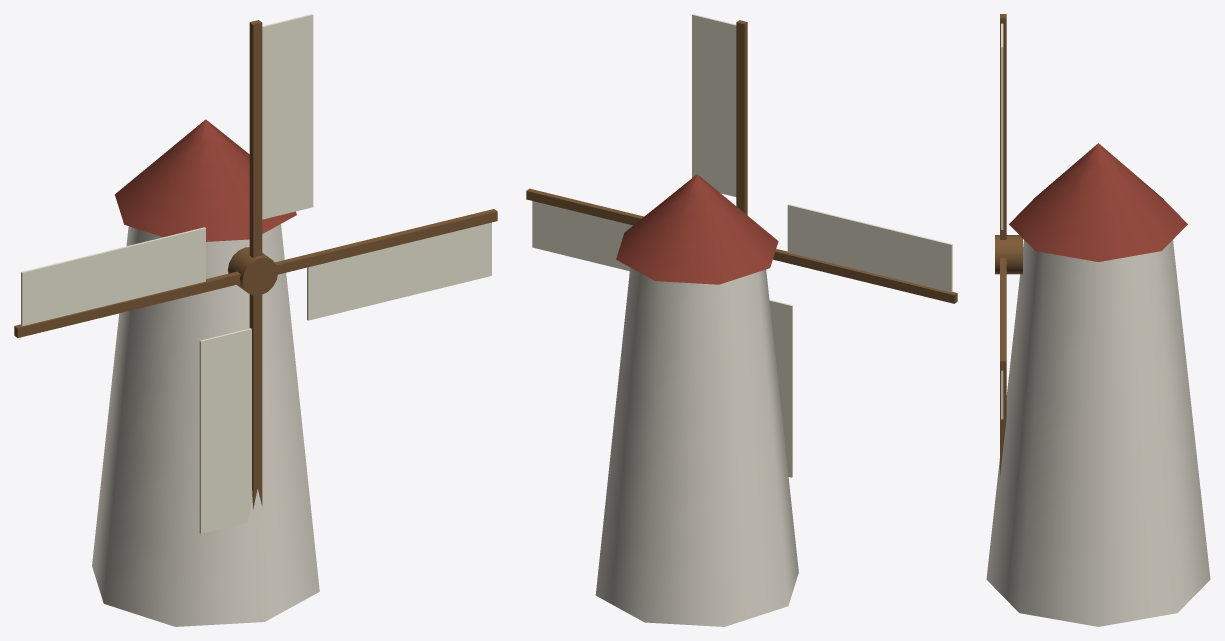
File: windmill.glb
3 views of the same model, side by side, from view 1: azimuth 30°, elevation 25°; view 2: azimuth 150°, elevation 25°; view 3: azimuth 270°, elevation 25° (orthographic). The views are drawn at different scales.
Parts seen in each view (by area): view 1: Tower, Roof, Cloth2, Cloth1, Cloth0, Cloth3, Spar0, Spar3, Spar1, Spar2, Hub; view 2: Tower, Roof, Cloth1, Cloth0, Cloth3, Cloth2, Spar0, Spar1, Spar3; view 3: Tower, Roof, Spar0, Hub, Spar3, Cloth0, Spar2.
Part boxes in pixels (box(x1,y1,x2,y2)): Tower: box(92, 224, 319, 626); Roof: box(115, 119, 296, 241); Cloth2: box(199, 328, 251, 533); Cloth1: box(21, 227, 205, 326); Cloth0: box(262, 14, 313, 219); Cloth3: box(307, 222, 491, 320); Spar0: box(249, 20, 262, 257); Spar3: box(275, 209, 497, 274); Spar1: box(14, 271, 240, 337); Spar2: box(249, 294, 262, 509); Hub: box(228, 247, 278, 295); Tower: box(595, 267, 798, 626); Roof: box(616, 174, 778, 284); Cloth1: box(787, 204, 952, 292); Cloth0: box(692, 14, 736, 196); Cloth3: box(532, 201, 632, 271); Cloth2: box(769, 299, 792, 477); Spar0: box(736, 20, 747, 215); Spar1: box(773, 249, 957, 303); Spar3: box(526, 188, 643, 225); Tower: box(986, 240, 1210, 626); Roof: box(1009, 143, 1187, 261); Spar0: box(1000, 14, 1006, 239); Hub: box(995, 235, 1022, 274); Spar3: box(1000, 258, 1006, 370); Cloth0: box(1001, 23, 1003, 229); Spar2: box(1000, 370, 1006, 476).
Size of what is drawn, in the model's own units: 9.4 by 11.1 by 4.
